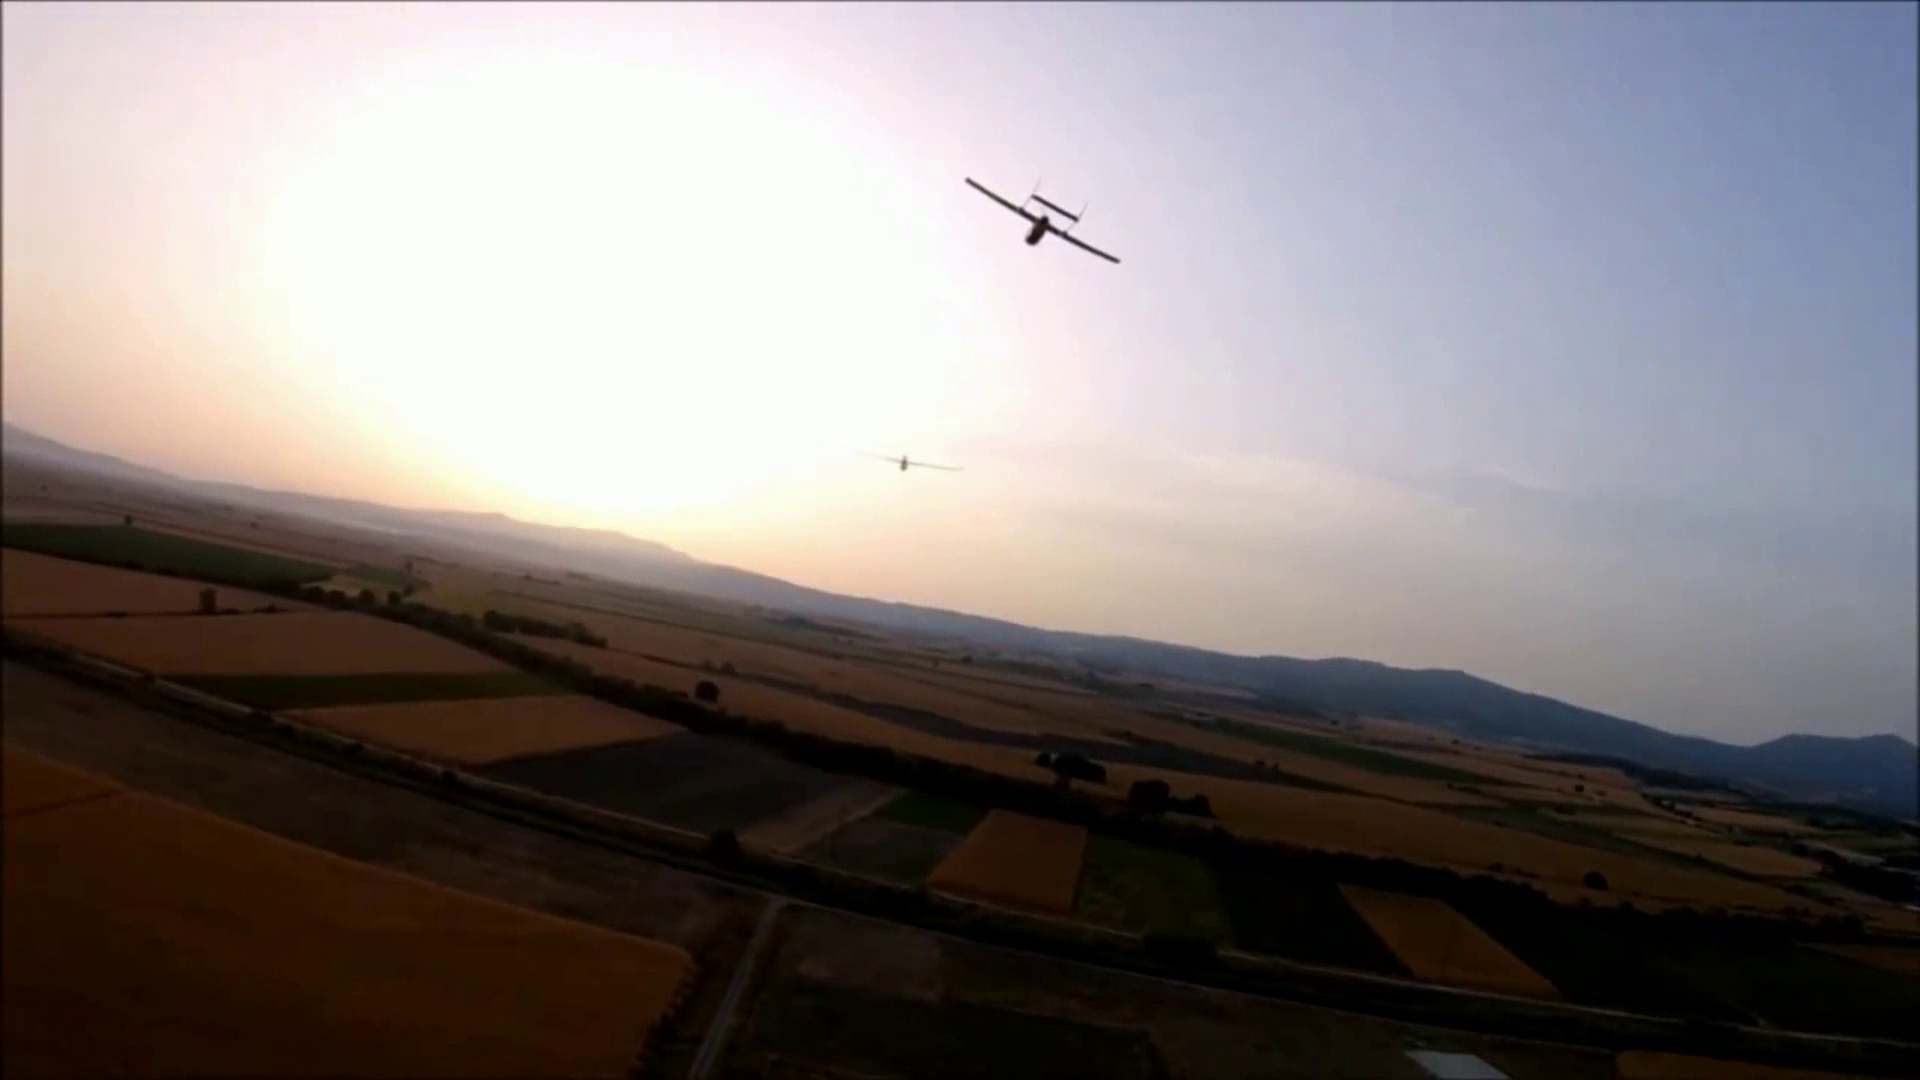airplane: (963, 175, 1122, 264)
